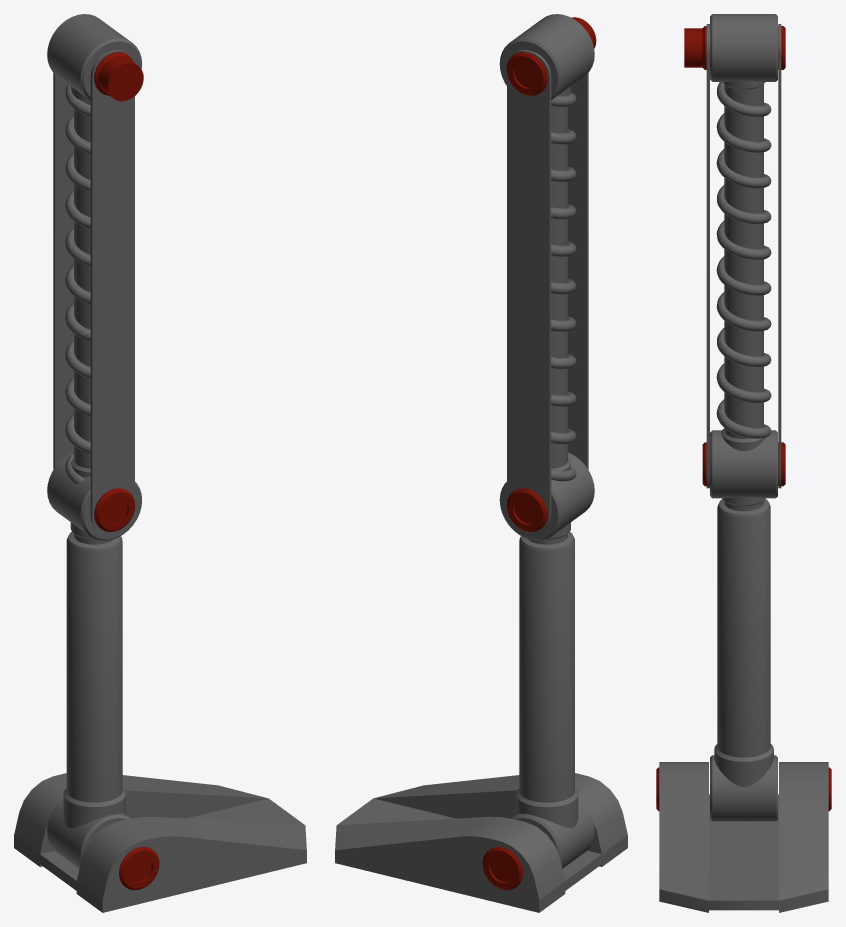
The model's file is PernaEsq.fbx.
3 views of the same model, side by side, from view 1: azimuth 30°, elevation 25°; view 2: azimuth 150°, elevation 25°; view 3: azimuth 270°, elevation 25° (orthographic). The views are drawn at different scales.
Visible parts, largest first — view 1: PernaEsq_1; view 2: PernaEsq_1; view 3: PernaEsq_1.
Boxes of the visible parts, left/top/right/bottom form: PernaEsq_1: left=14, top=14, right=306, bottom=912; PernaEsq_1: left=335, top=14, right=627, bottom=912; PernaEsq_1: left=656, top=14, right=831, bottom=912.
Bounding box in the file's own units: 239 × 844 × 166.
